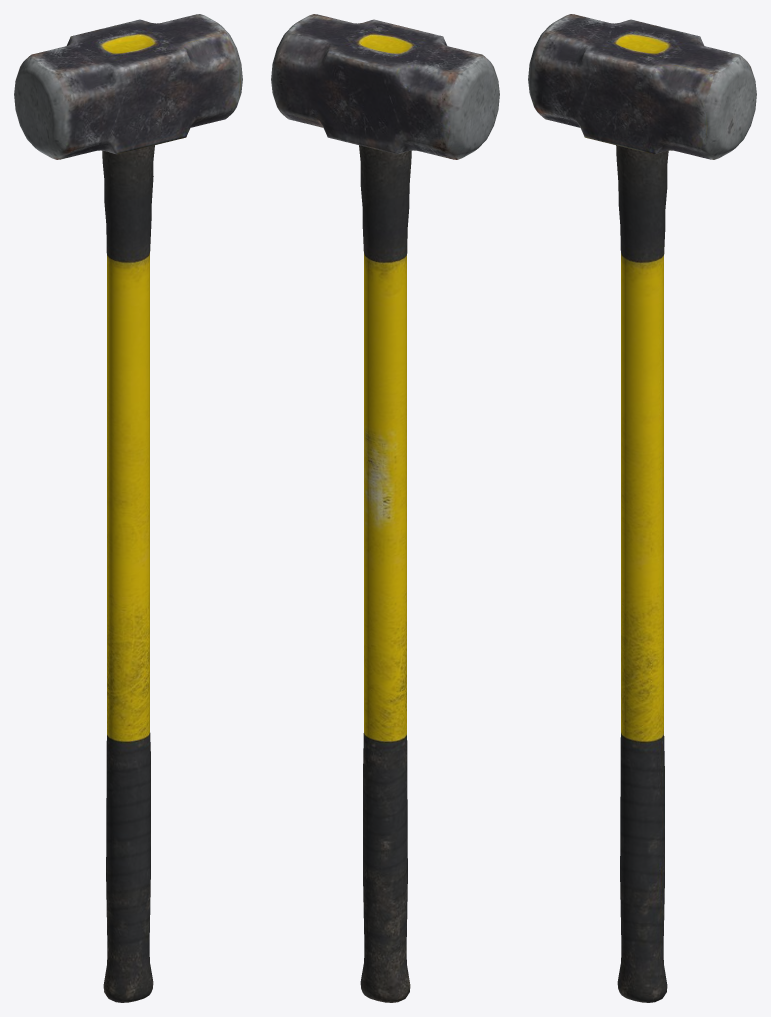
File: hsledge.glb
The picture shows the model from 3 angles, left to right: view 1: azimuth 30°, elevation 25°; view 2: azimuth 150°, elevation 25°; view 3: azimuth 330°, elevation 25°; orthographic projection.
Parts seen in each view (by area): view 1: hsledge; view 2: hsledge; view 3: hsledge.
Part boxes in pixels (x1,y1,x2,y2): hsledge: (14, 14, 242, 1002); hsledge: (271, 14, 499, 1002); hsledge: (528, 14, 756, 1002).
Size of the model in its own units: 0.2085 by 1.01 by 0.0905.
1 material, 1 textured.
